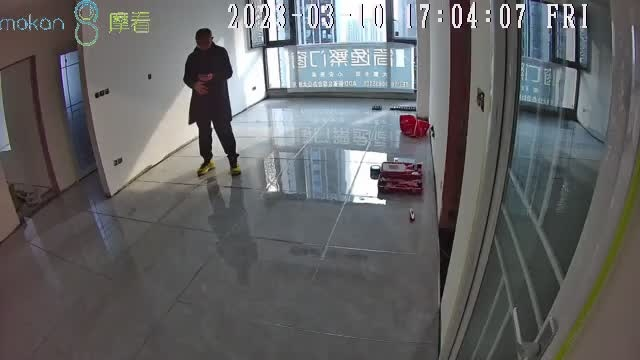people: (183, 28, 244, 176)
window: (263, 1, 416, 96)
